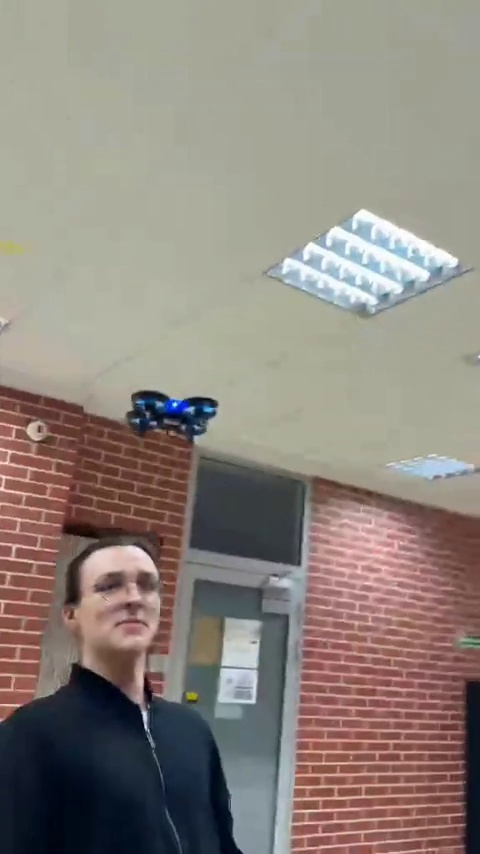drone: (123, 391, 213, 443)
no vest: (6, 535, 237, 842)
